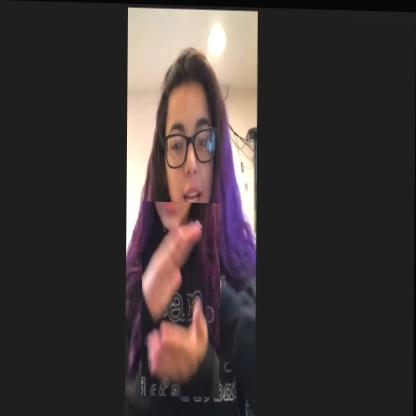NiceToMeetYou: (142, 200, 221, 396)
